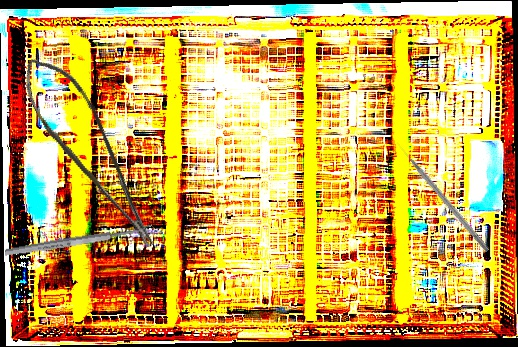Hook Surgical: (394, 140, 491, 253)
Micro Scissor: (12, 43, 161, 267)
Surgical Spoon: (4, 224, 154, 258)
